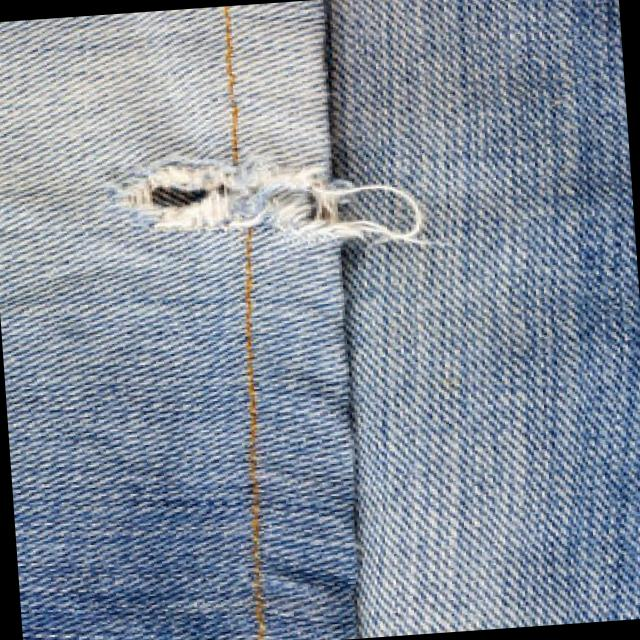Thread: (332, 172, 456, 258)
hole: (110, 150, 344, 254)
seam: (302, 0, 387, 639), (206, 5, 280, 640)
